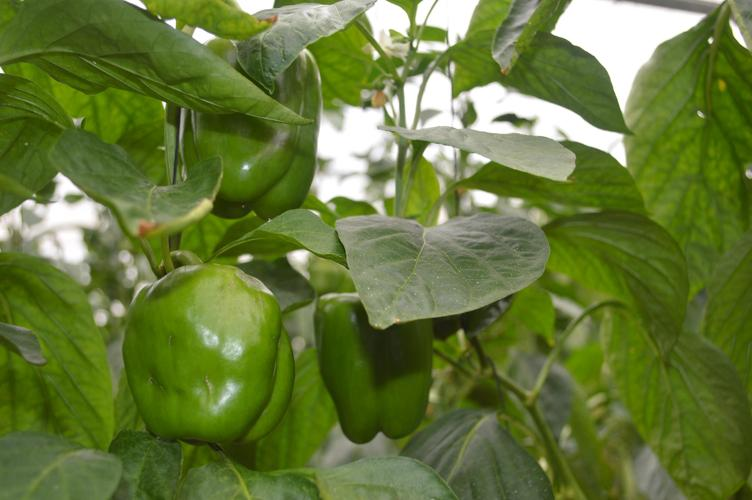BellPepper: (123, 267, 293, 440), (186, 44, 315, 213), (310, 294, 438, 440)
